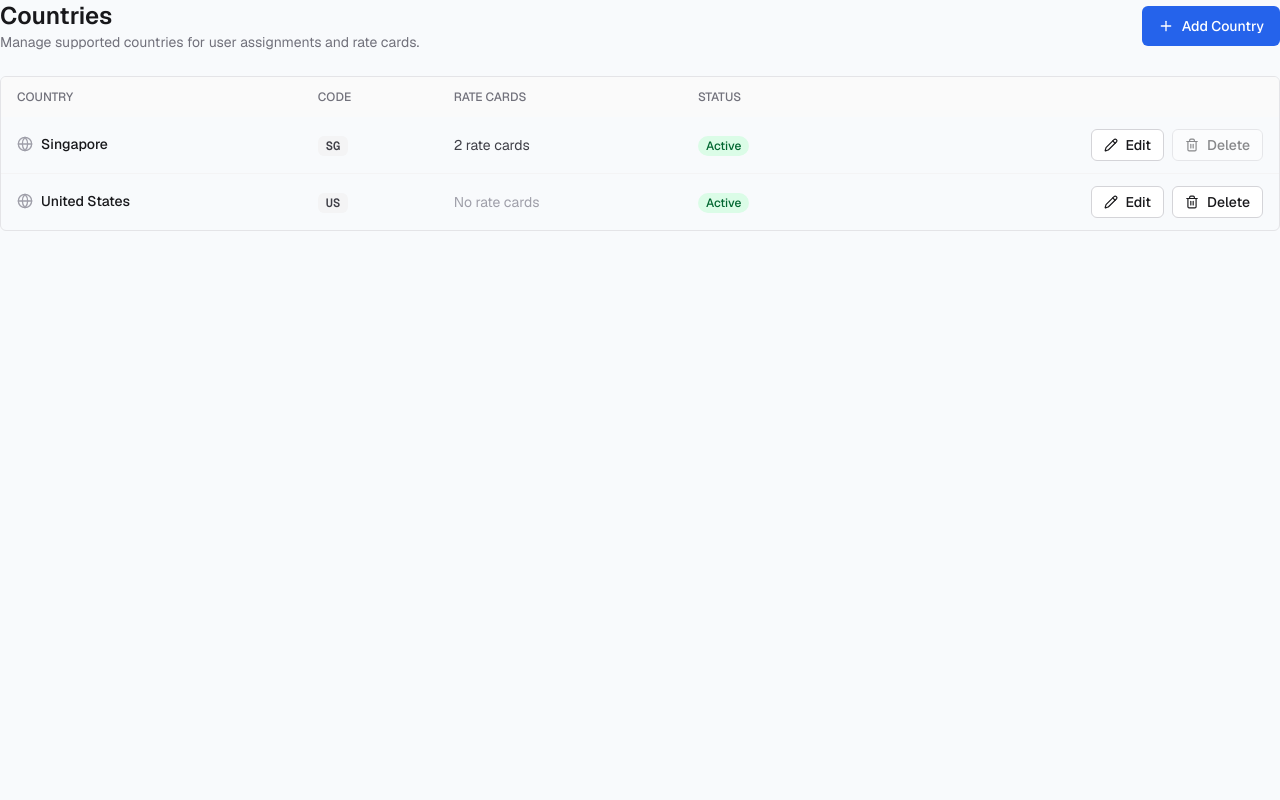
Test case: CountriesTable › closes the confirm dialog without deleting when cancelled
Expected: the text "Singapore" is shown, [17, 134, 108, 154]
Click the button "Delete" in the row of "United States": (1217, 202) [1172, 186, 1263, 218]
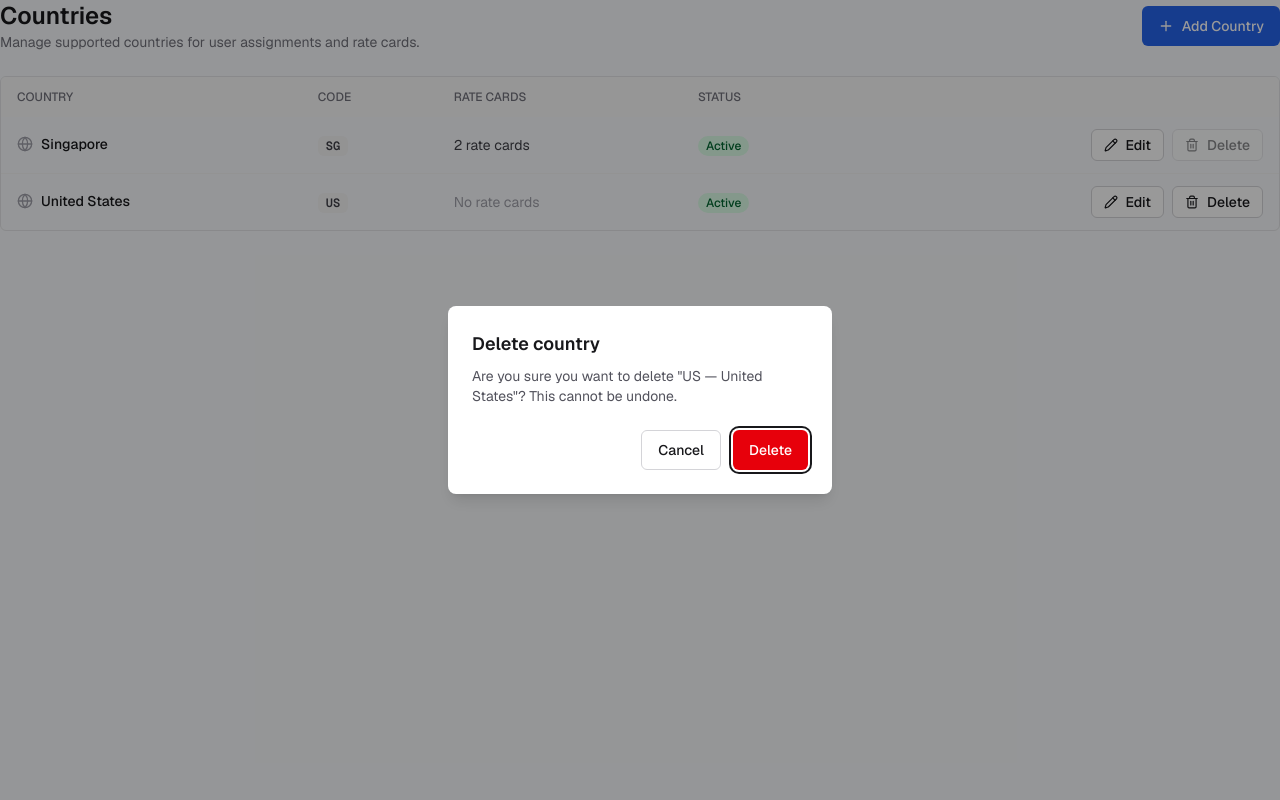
Click the button "Cancel": (681, 450) [641, 430, 721, 470]
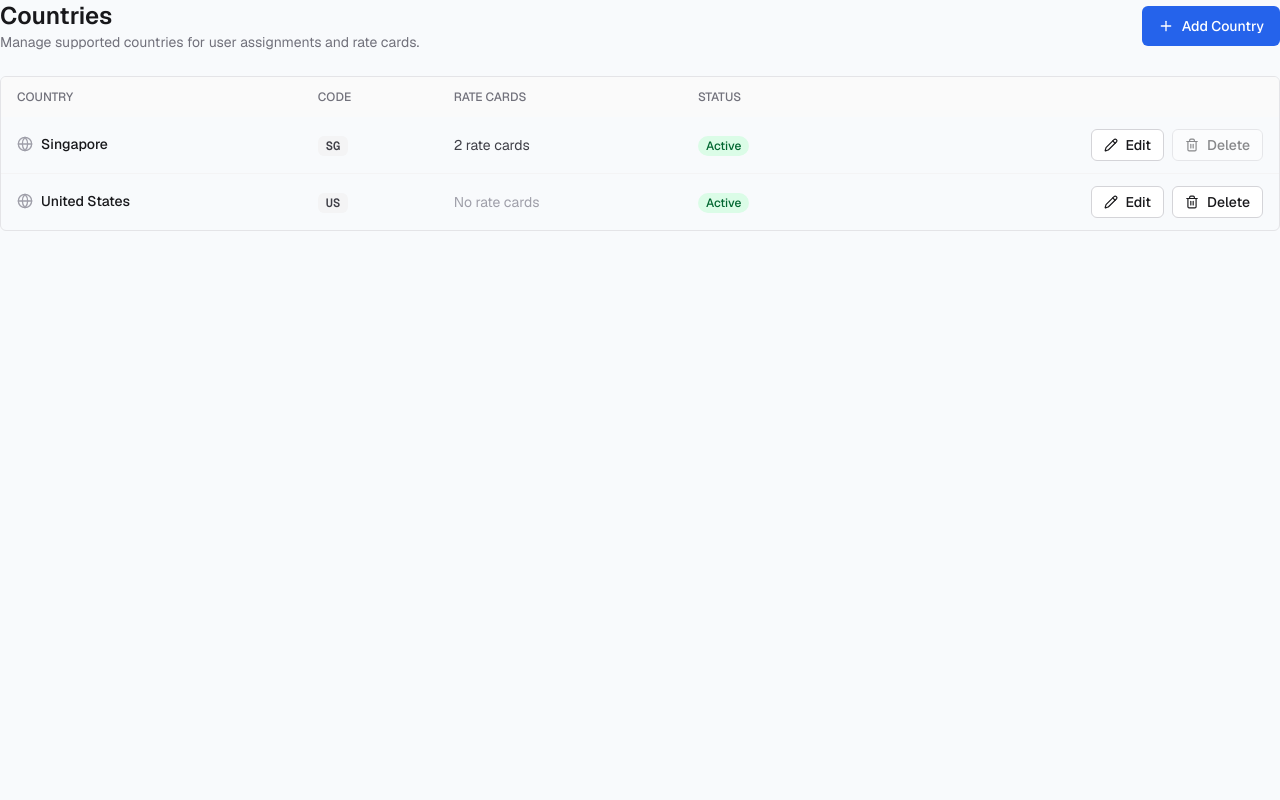
Result: the dialog is gone
